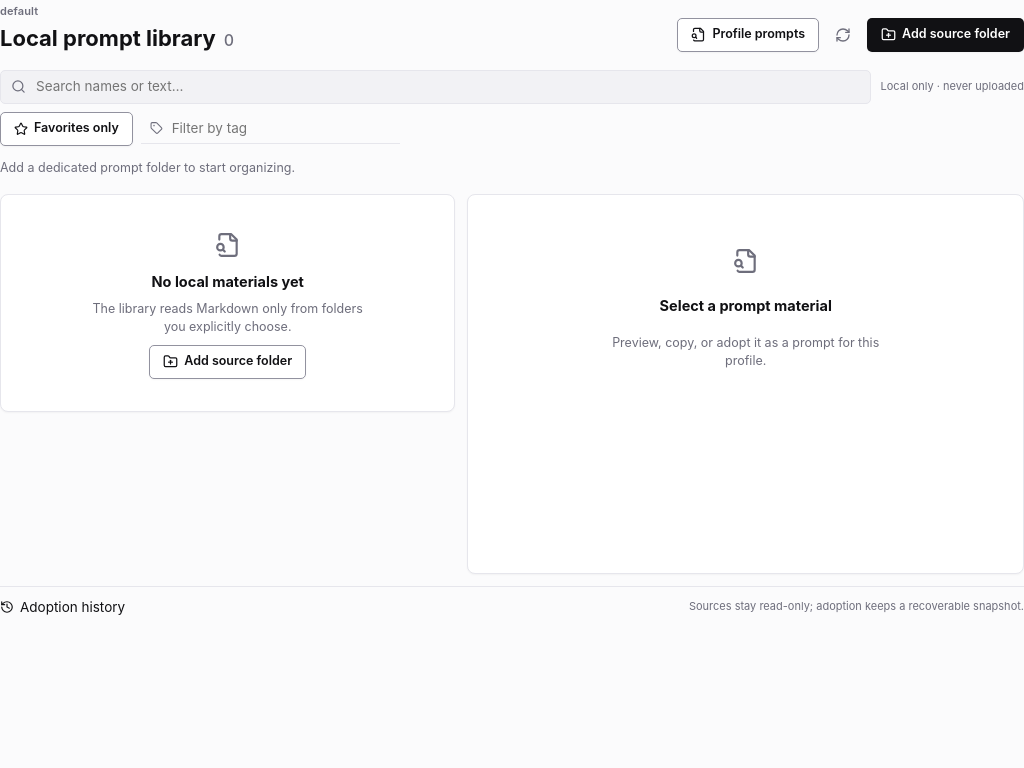
Scenario: PromptLibraryModule › requires confirmation before removing a source and its labels
This screenshot has width=1024, height=768.
Step 1. Click the button with test id "prompt-library-add-source" → (946, 34), box [867, 18, 1023, 52]
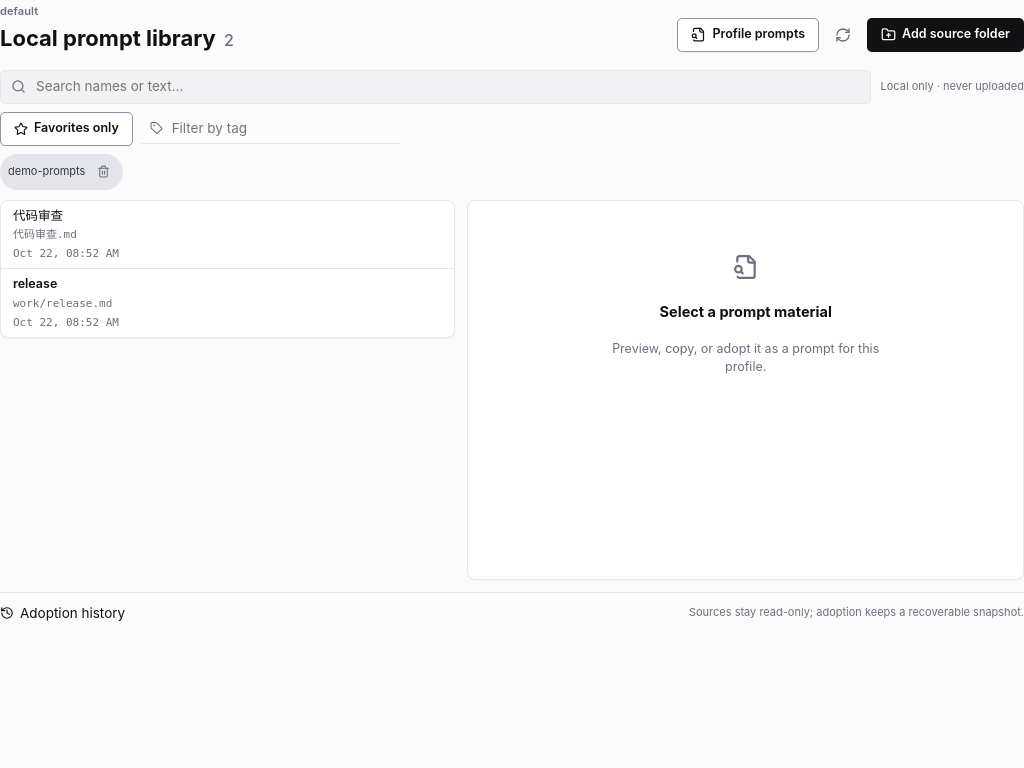
Step 2. Click the button with test id "prompt-library-remove-source" → (103, 172), box [87, 156, 119, 188]
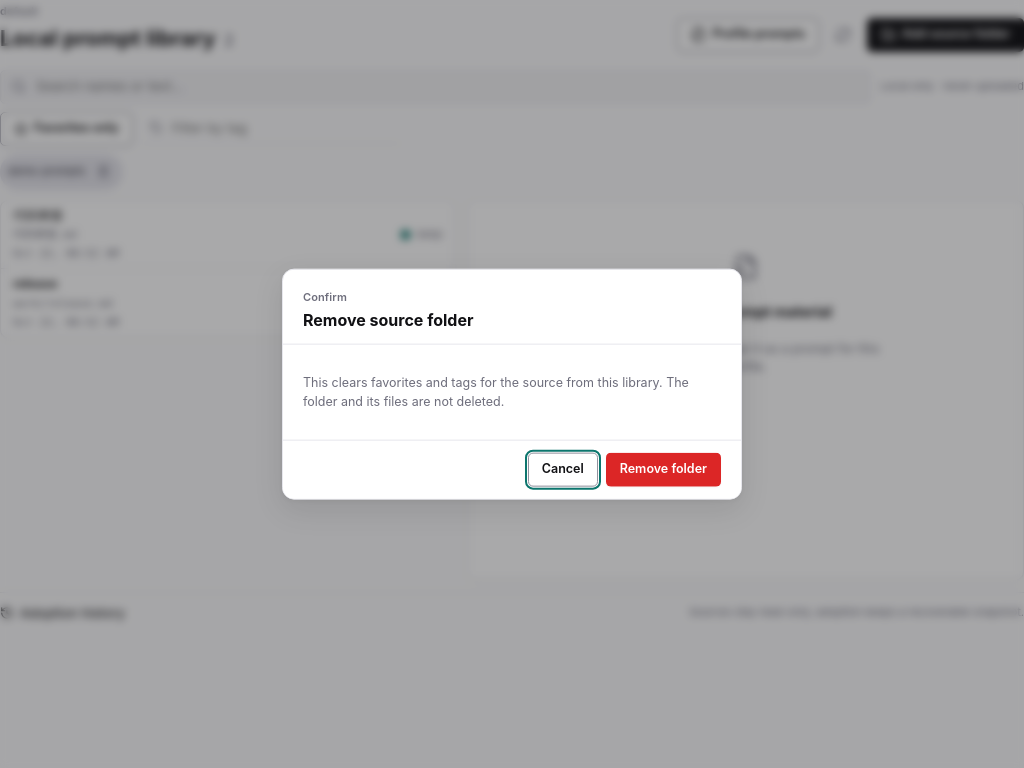
Now the text "Remove source folder" is shown, box [303, 308, 474, 332]
